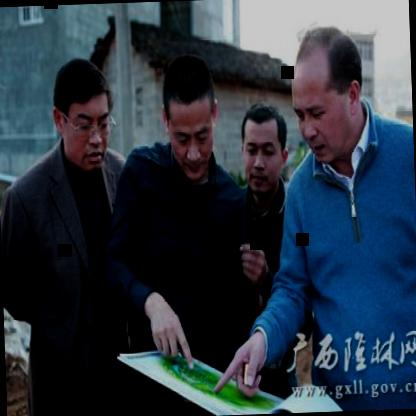head: (288, 22, 374, 168), (158, 48, 224, 183), (50, 52, 119, 172), (236, 98, 290, 197)
